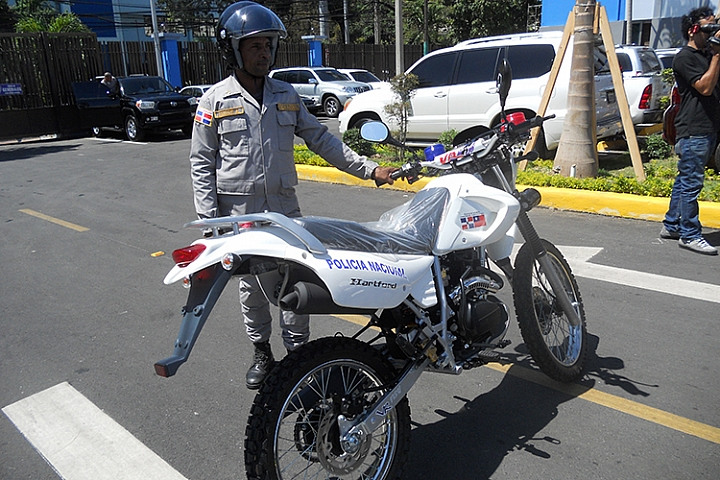helmet: (216, 10, 288, 64)
